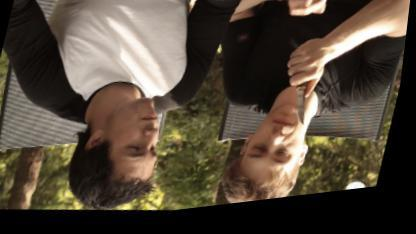knife: (274, 60, 329, 139)
